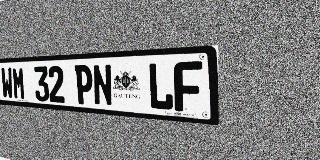2: (48, 66, 65, 103)
3: (34, 66, 49, 102)
F: (174, 61, 203, 113)
L: (148, 62, 174, 111)
M: (12, 67, 26, 100)
N: (92, 64, 113, 106)
P: (74, 65, 93, 105)
W: (1, 67, 13, 99)
